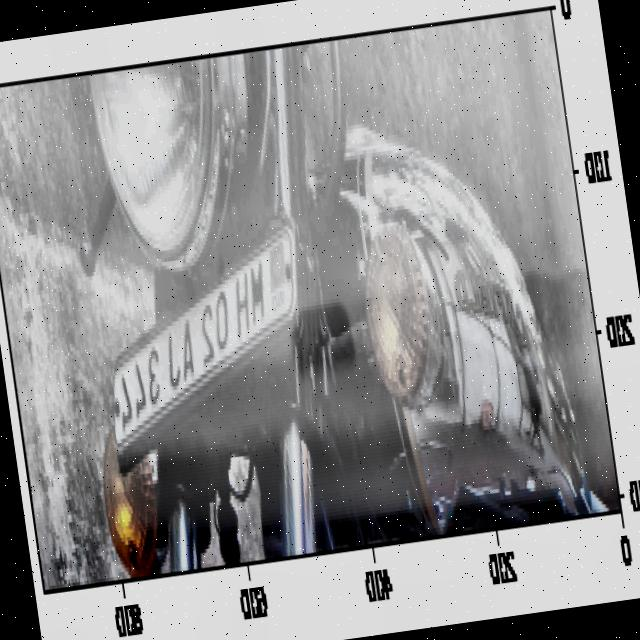license_plate: (96, 251, 291, 444)
